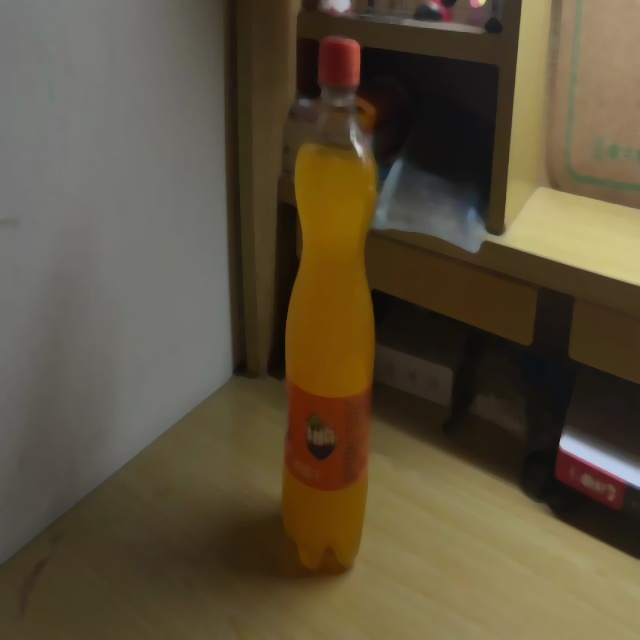Fanta: (282, 37, 376, 572)
